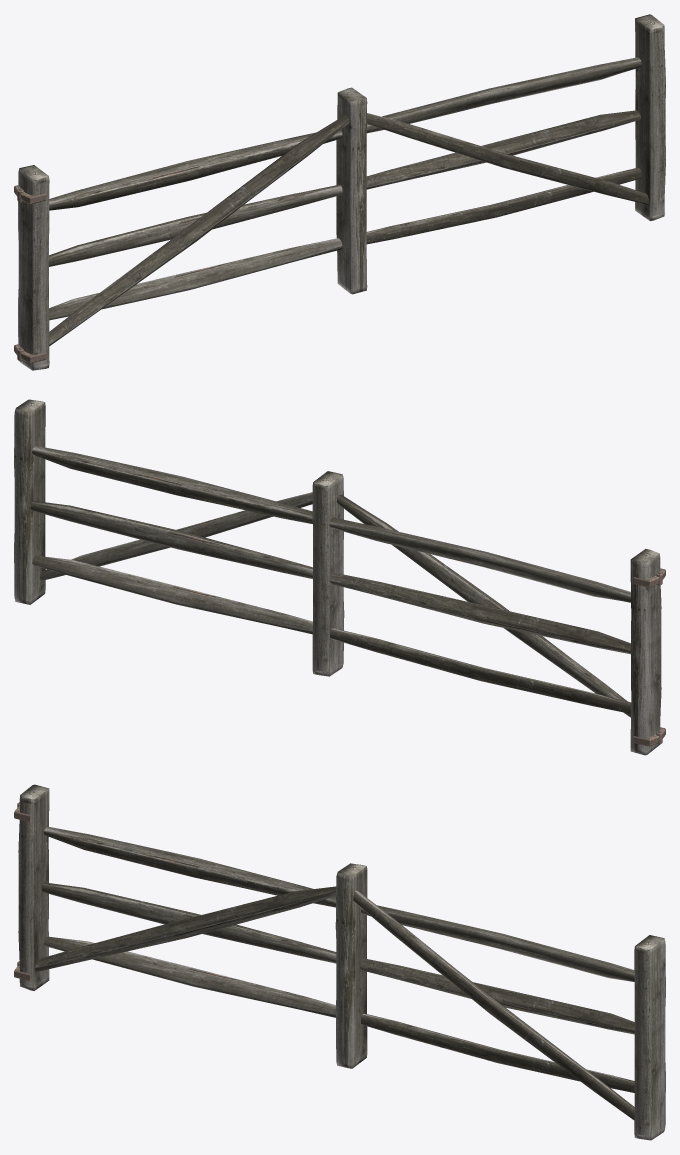
The model's file is fence_gate.FBX.
3 views of the same model, one above another, from view 1: azimuth 30°, elevation 25°; view 2: azimuth 150°, elevation 25°; view 3: azimuth 330°, elevation 25° (orthographic).
Visible parts, largest first — view 1: fence_gate; view 2: fence_gate; view 3: fence_gate.
Boxes of the visible parts, x1,y1,x2,y2 form: fence_gate: (14, 14, 665, 370); fence_gate: (14, 399, 665, 755); fence_gate: (14, 784, 665, 1140).
Bounding box in the file's own units: 343 × 16.85 × 98.6.
